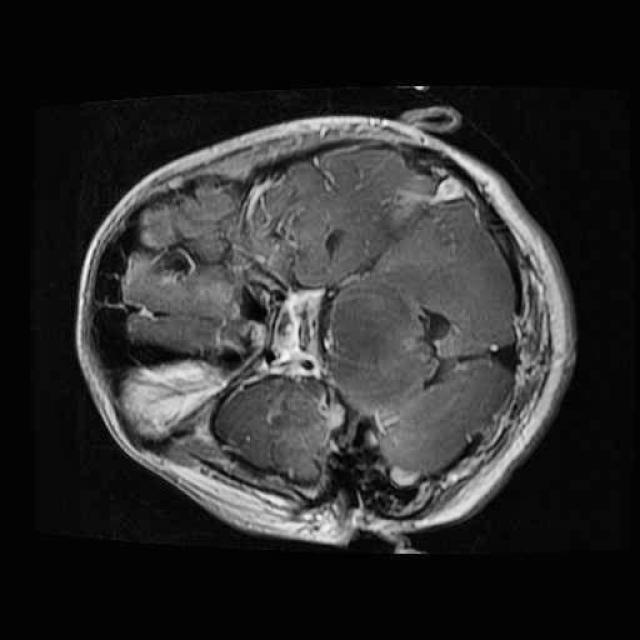Non-Tumor: (115, 339, 235, 456)
